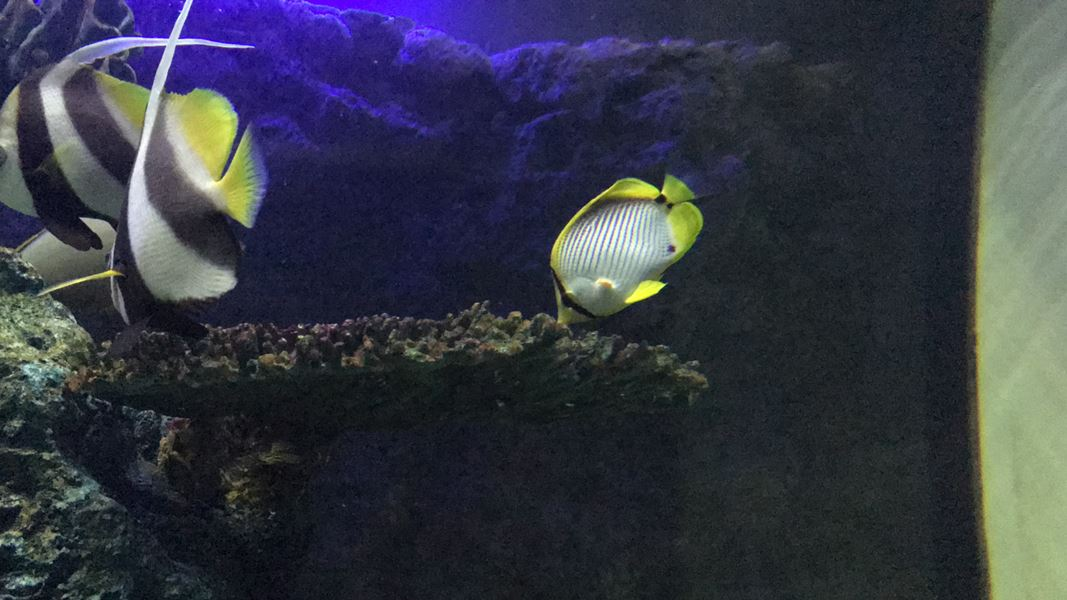Black-backed butterflyfish: (540, 141, 737, 336)
